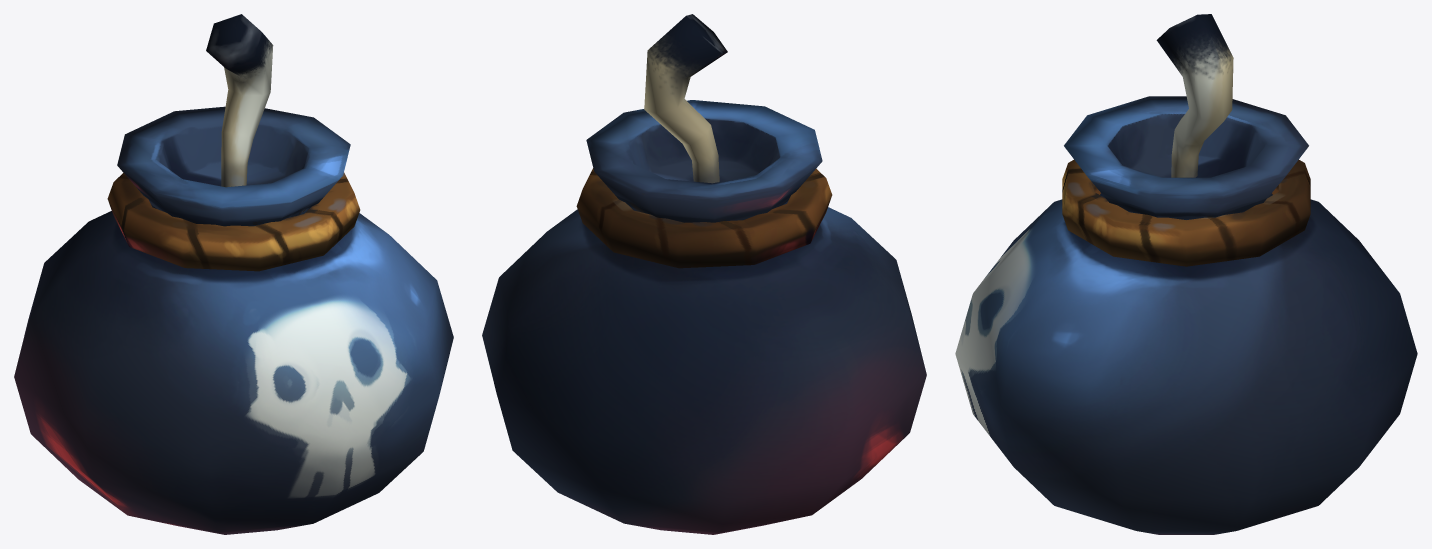
Rendered from bomb.obj.
The picture shows the model from 3 angles, left to right: view 1: azimuth 30°, elevation 25°; view 2: azimuth 150°, elevation 25°; view 3: azimuth 270°, elevation 25°; orthographic projection. The views are drawn at different scales.
Parts seen in each view (by area): view 1: bomb body, bomb top, rope, whick; view 2: bomb body, bomb top, rope, whick; view 3: bomb body, bomb top, rope, whick.
Boxes of the visible parts, <box> form: bomb body: <box>14,204,453,534</box>; bomb top: <box>117,106,350,226</box>; rope: <box>107,172,360,271</box>; whick: <box>206,14,273,187</box>; bomb body: <box>482,200,926,534</box>; bomb top: <box>586,100,822,222</box>; rope: <box>576,168,832,268</box>; whick: <box>644,14,727,183</box>; bomb body: <box>955,193,1417,534</box>; bomb top: <box>1064,96,1308,219</box>; rope: <box>1062,159,1310,266</box>; whick: <box>1156,14,1233,177</box>.
Size of the model in its own units: 190 by 240 by 200.
